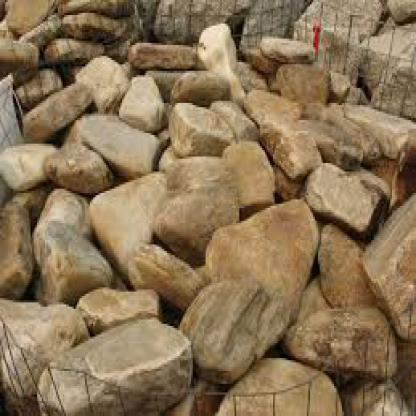Metamorphic_Quartize: (202, 191, 334, 322), (37, 313, 189, 414), (289, 262, 402, 378), (87, 163, 178, 281), (206, 341, 348, 414), (178, 277, 270, 375), (31, 191, 101, 315), (305, 152, 386, 255), (363, 197, 414, 352), (63, 100, 162, 172), (158, 169, 242, 253), (220, 128, 284, 233), (315, 223, 369, 326), (39, 137, 114, 204), (170, 92, 236, 163), (270, 56, 348, 105), (69, 45, 124, 105), (121, 66, 166, 133)
